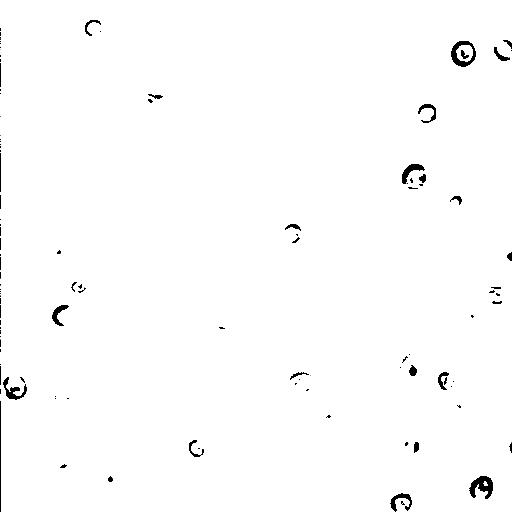micro-algae: (199, 249, 283, 327), (103, 68, 155, 123), (113, 191, 167, 243), (39, 242, 81, 283), (15, 281, 55, 317), (382, 17, 416, 53), (401, 353, 428, 387), (96, 463, 123, 495), (401, 160, 428, 191), (423, 493, 468, 511), (286, 371, 317, 396), (449, 40, 477, 67), (468, 475, 495, 503), (2, 372, 28, 401), (51, 389, 78, 414), (49, 461, 73, 489), (50, 303, 76, 327), (481, 285, 507, 308), (280, 222, 305, 245), (120, 341, 145, 363), (113, 35, 139, 56), (298, 0, 336, 14), (493, 36, 511, 63), (390, 491, 413, 512), (417, 102, 438, 124), (456, 308, 480, 327), (438, 370, 456, 392), (498, 242, 511, 272), (186, 437, 205, 457), (71, 276, 89, 295), (403, 437, 421, 455), (85, 19, 102, 37), (448, 194, 463, 209)
